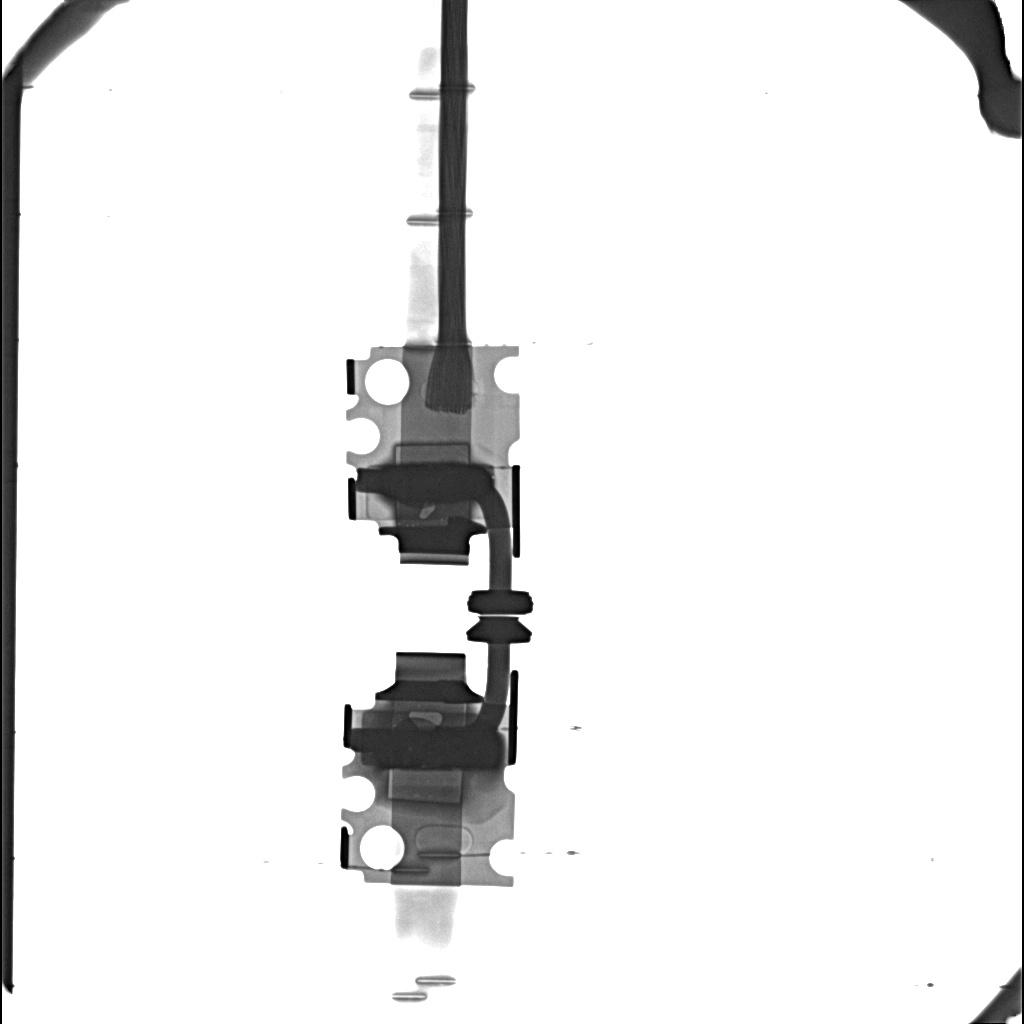PX: (386, 770, 464, 806), (394, 442, 471, 460)
QP: (408, 712, 444, 726), (419, 507, 435, 518)
SX: (377, 723, 500, 768), (381, 459, 494, 504)
